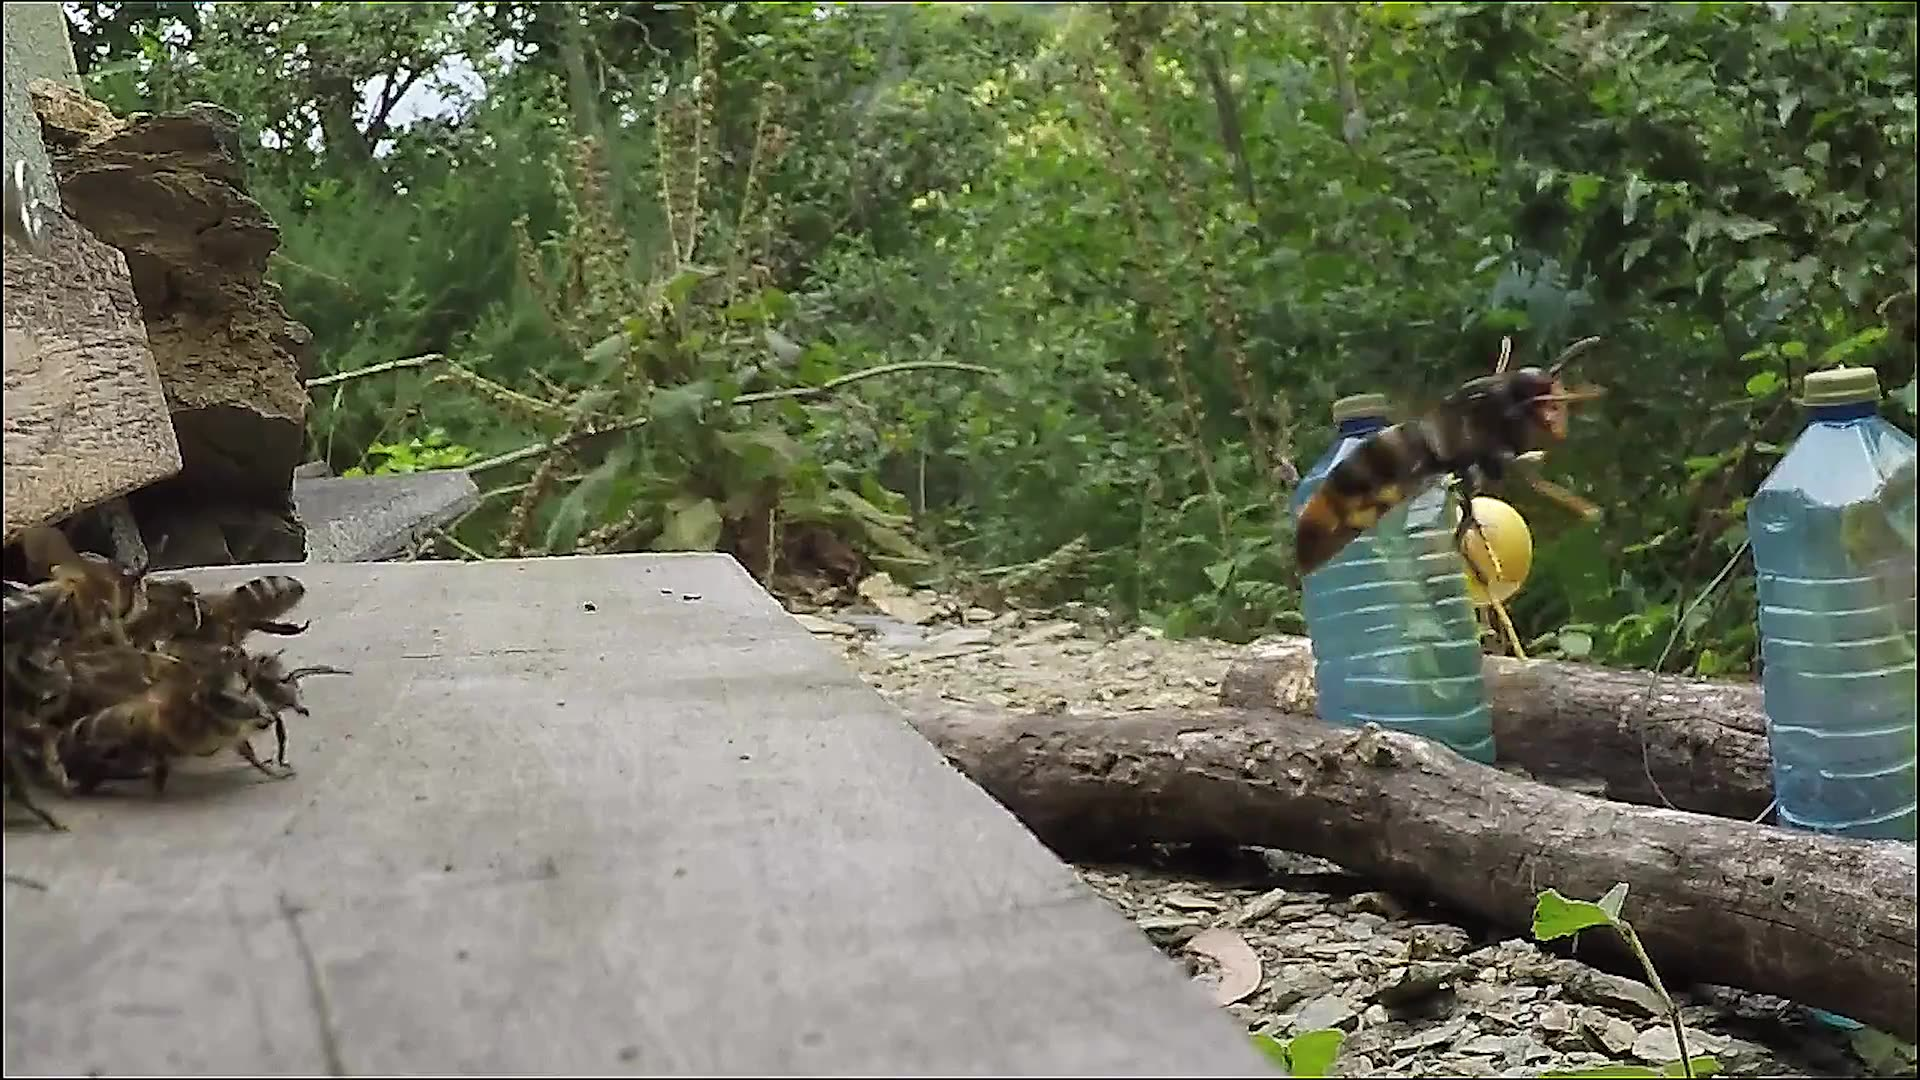bee: (1, 535, 314, 824)
hornet: (1283, 349, 1576, 579)
